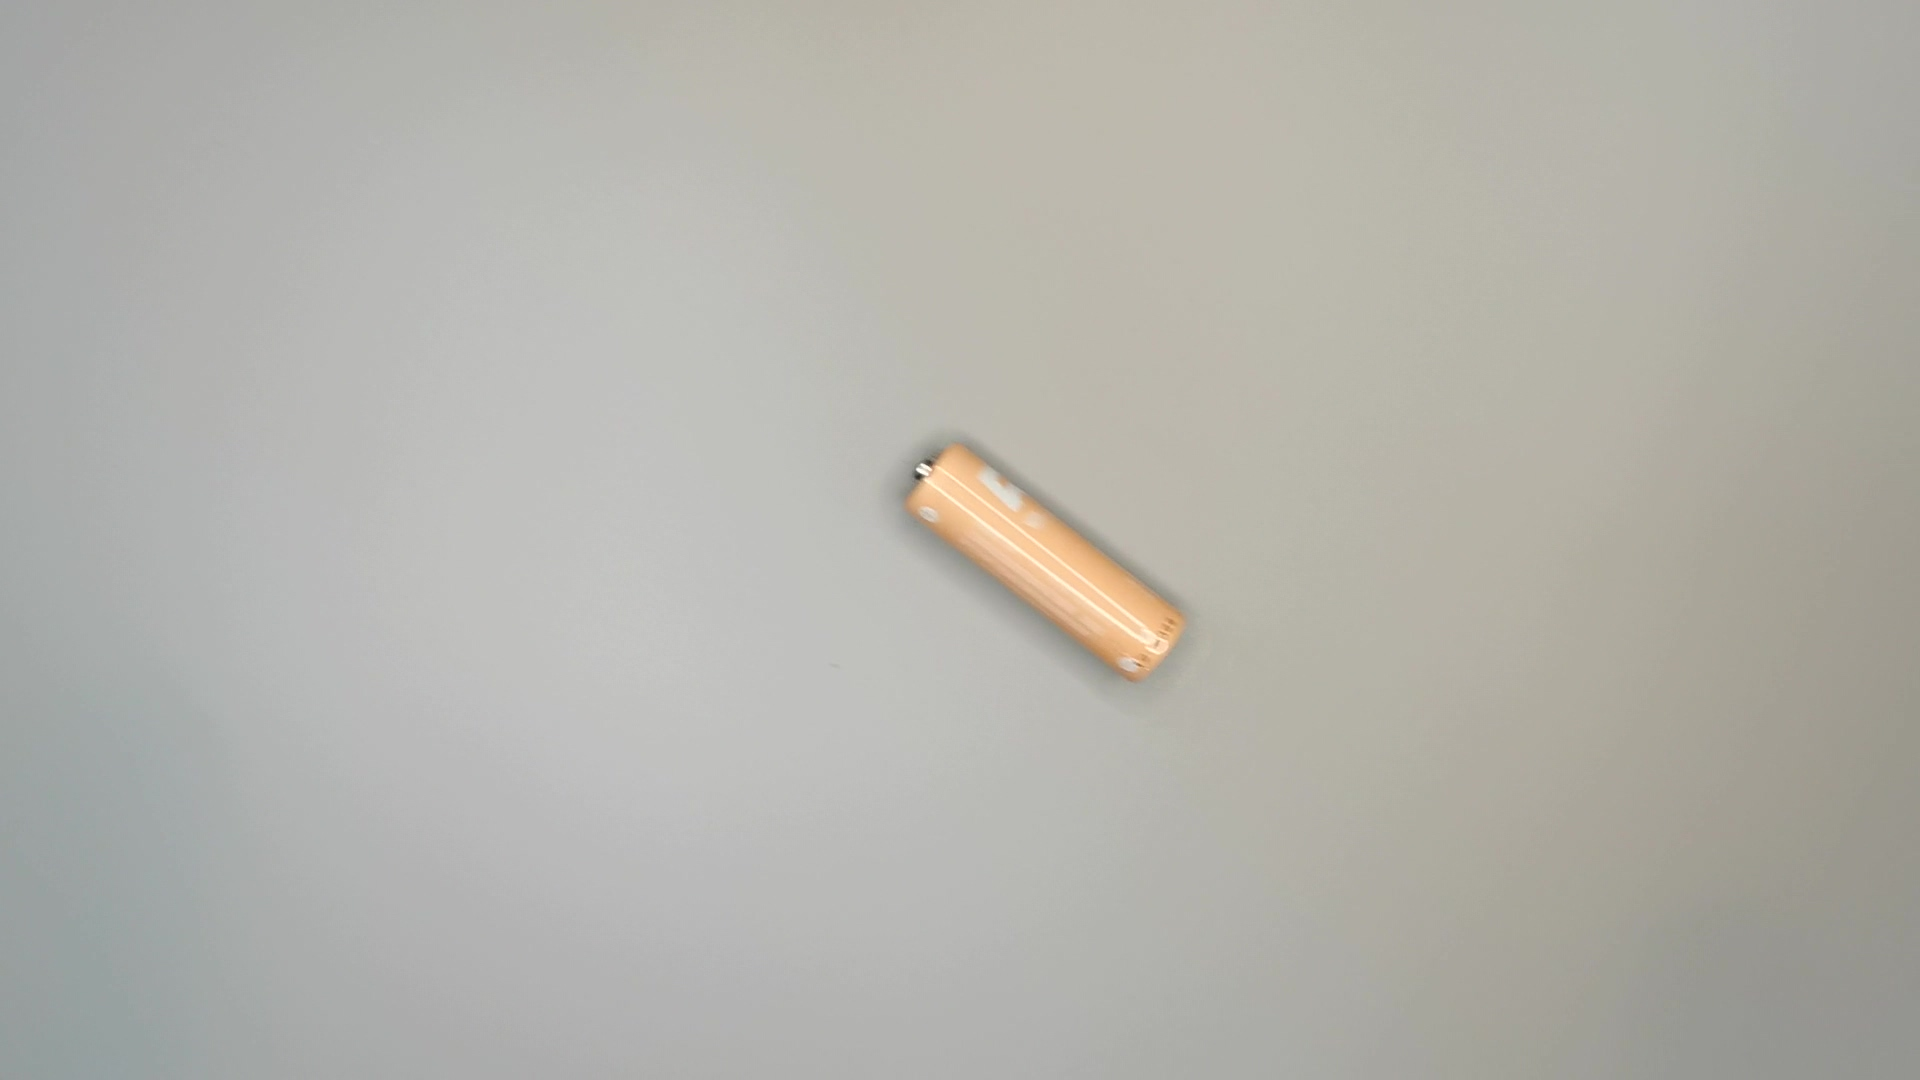battery: (903, 440, 1196, 687)
